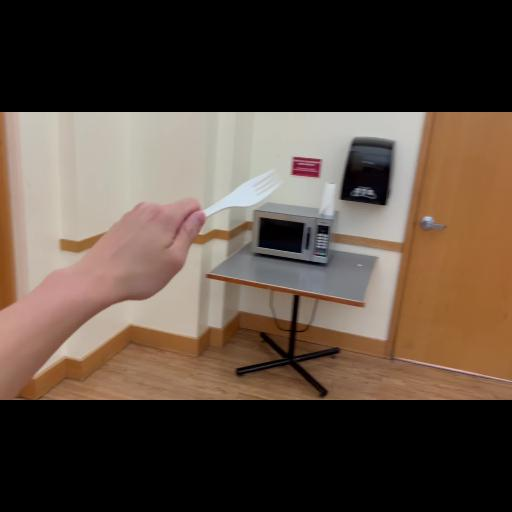utensil: (168, 166, 282, 236)
